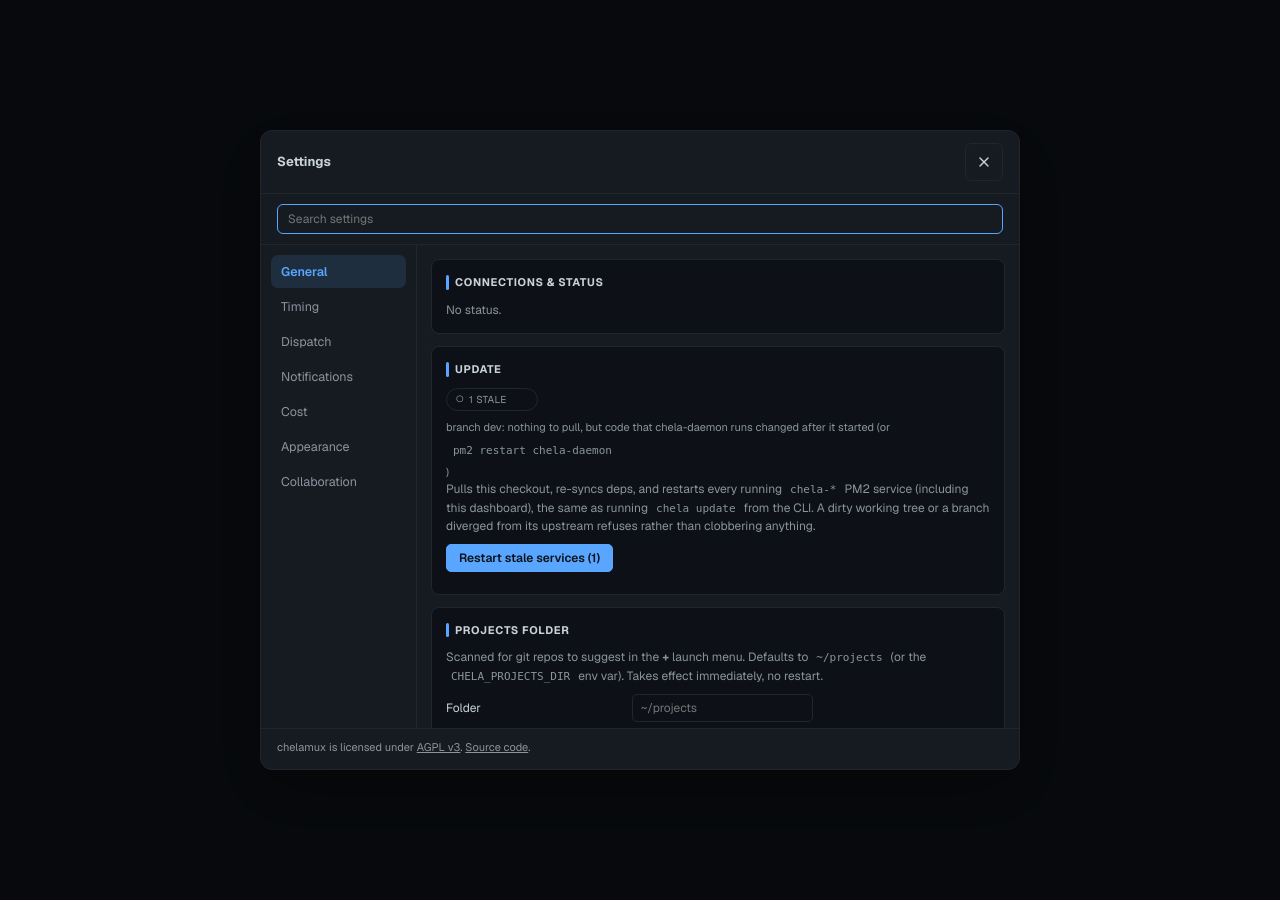
Scenario: a failed restart ends in the error, styled as one, with the button back
What coordinates should you click on to do the following:
click the button with id "update-apply-btn"
I would click on:
 (530, 558)
Its box is x1=446 y1=544 x2=613 y2=572.
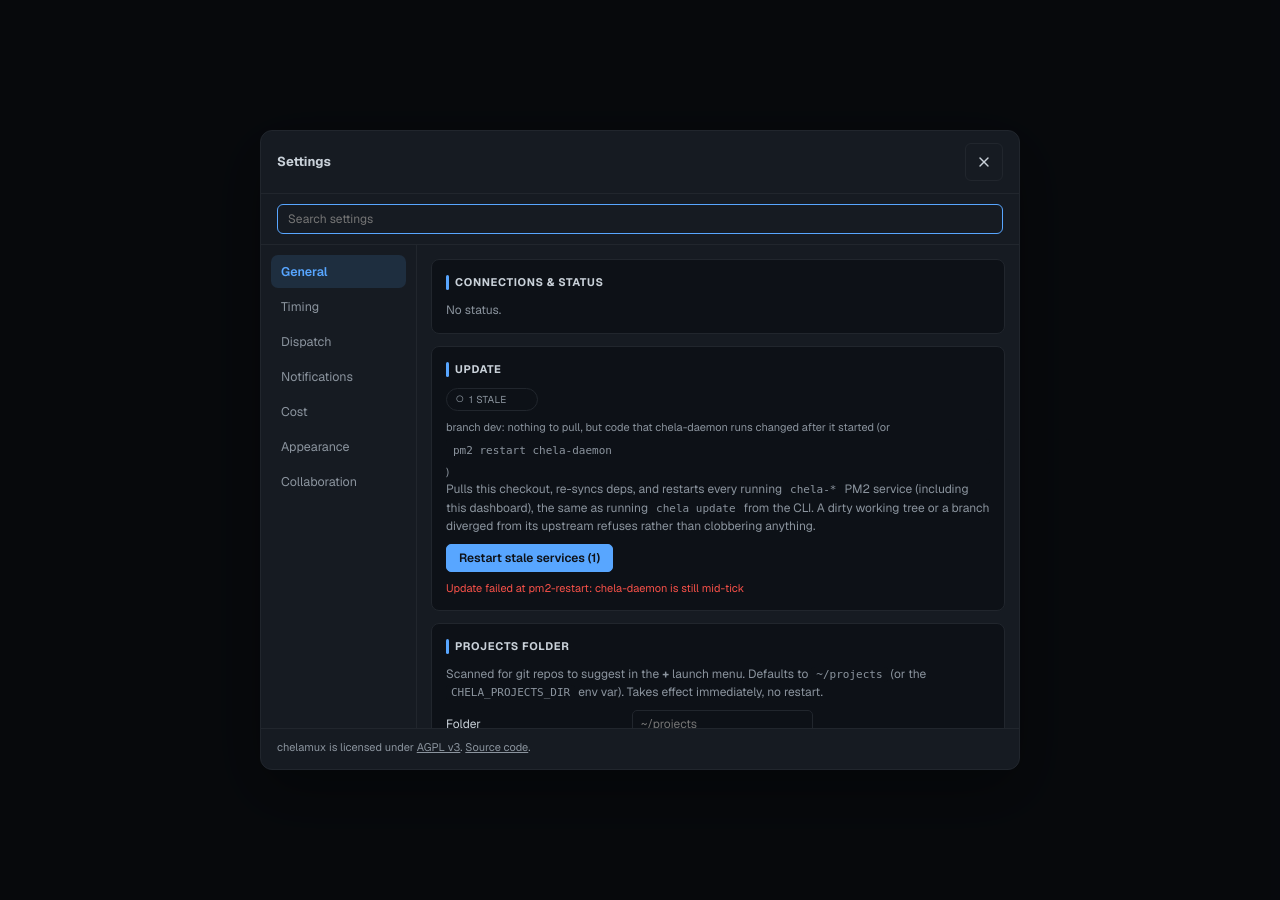
Result: the text with id "update-apply-msg" reads "Update failed at pm2-restart: chela-daemon is still mid-tick" at x1=446 y1=581 x2=744 y2=595
